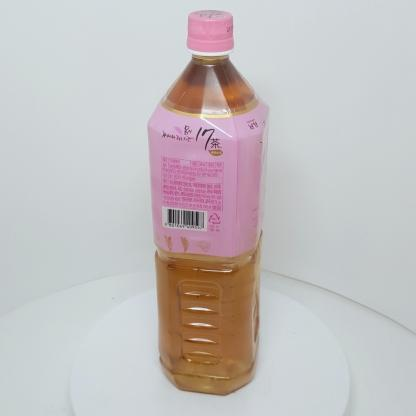--17-----1-5L: (147, 10, 270, 396)
